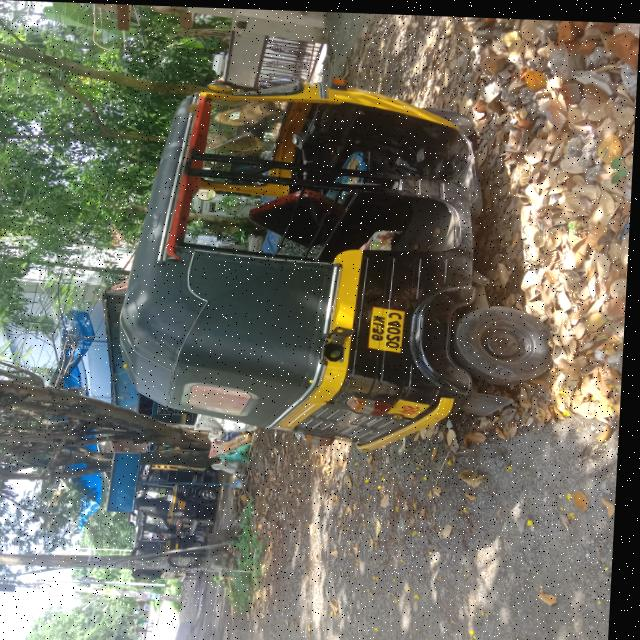plate: (371, 303, 409, 351)
